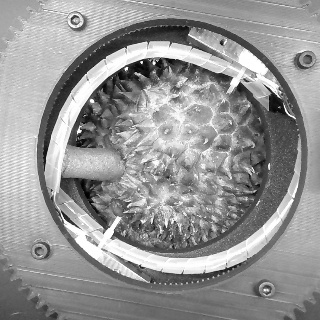base: (101, 143, 130, 190)
end: (60, 147, 71, 179)
